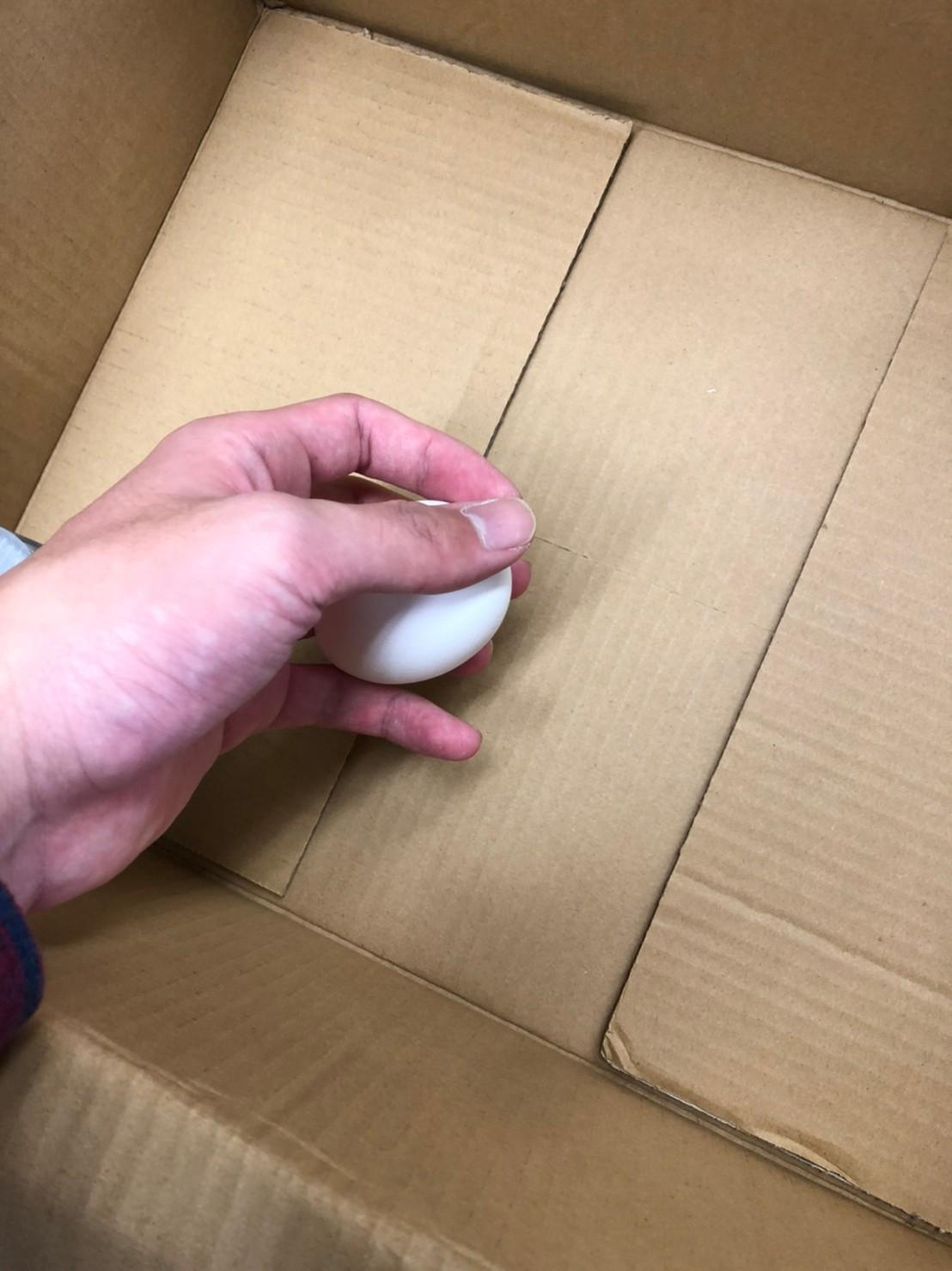egg: (321, 499, 519, 687)
